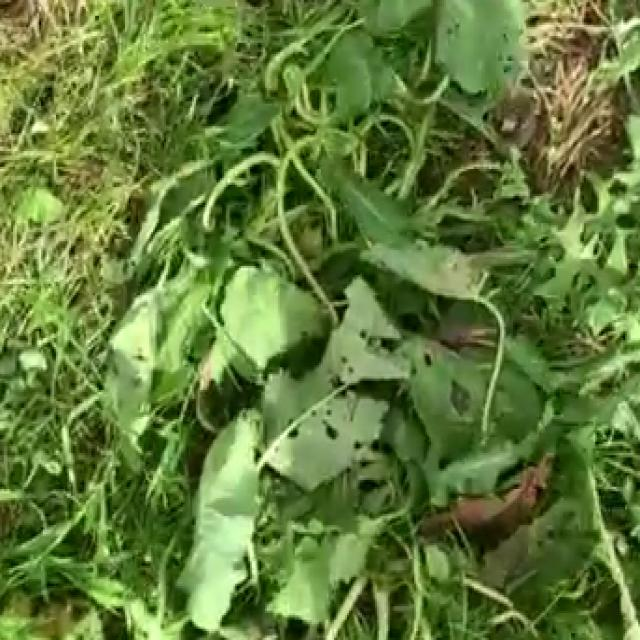organic waste: (155, 210, 599, 628), (47, 0, 429, 295)
